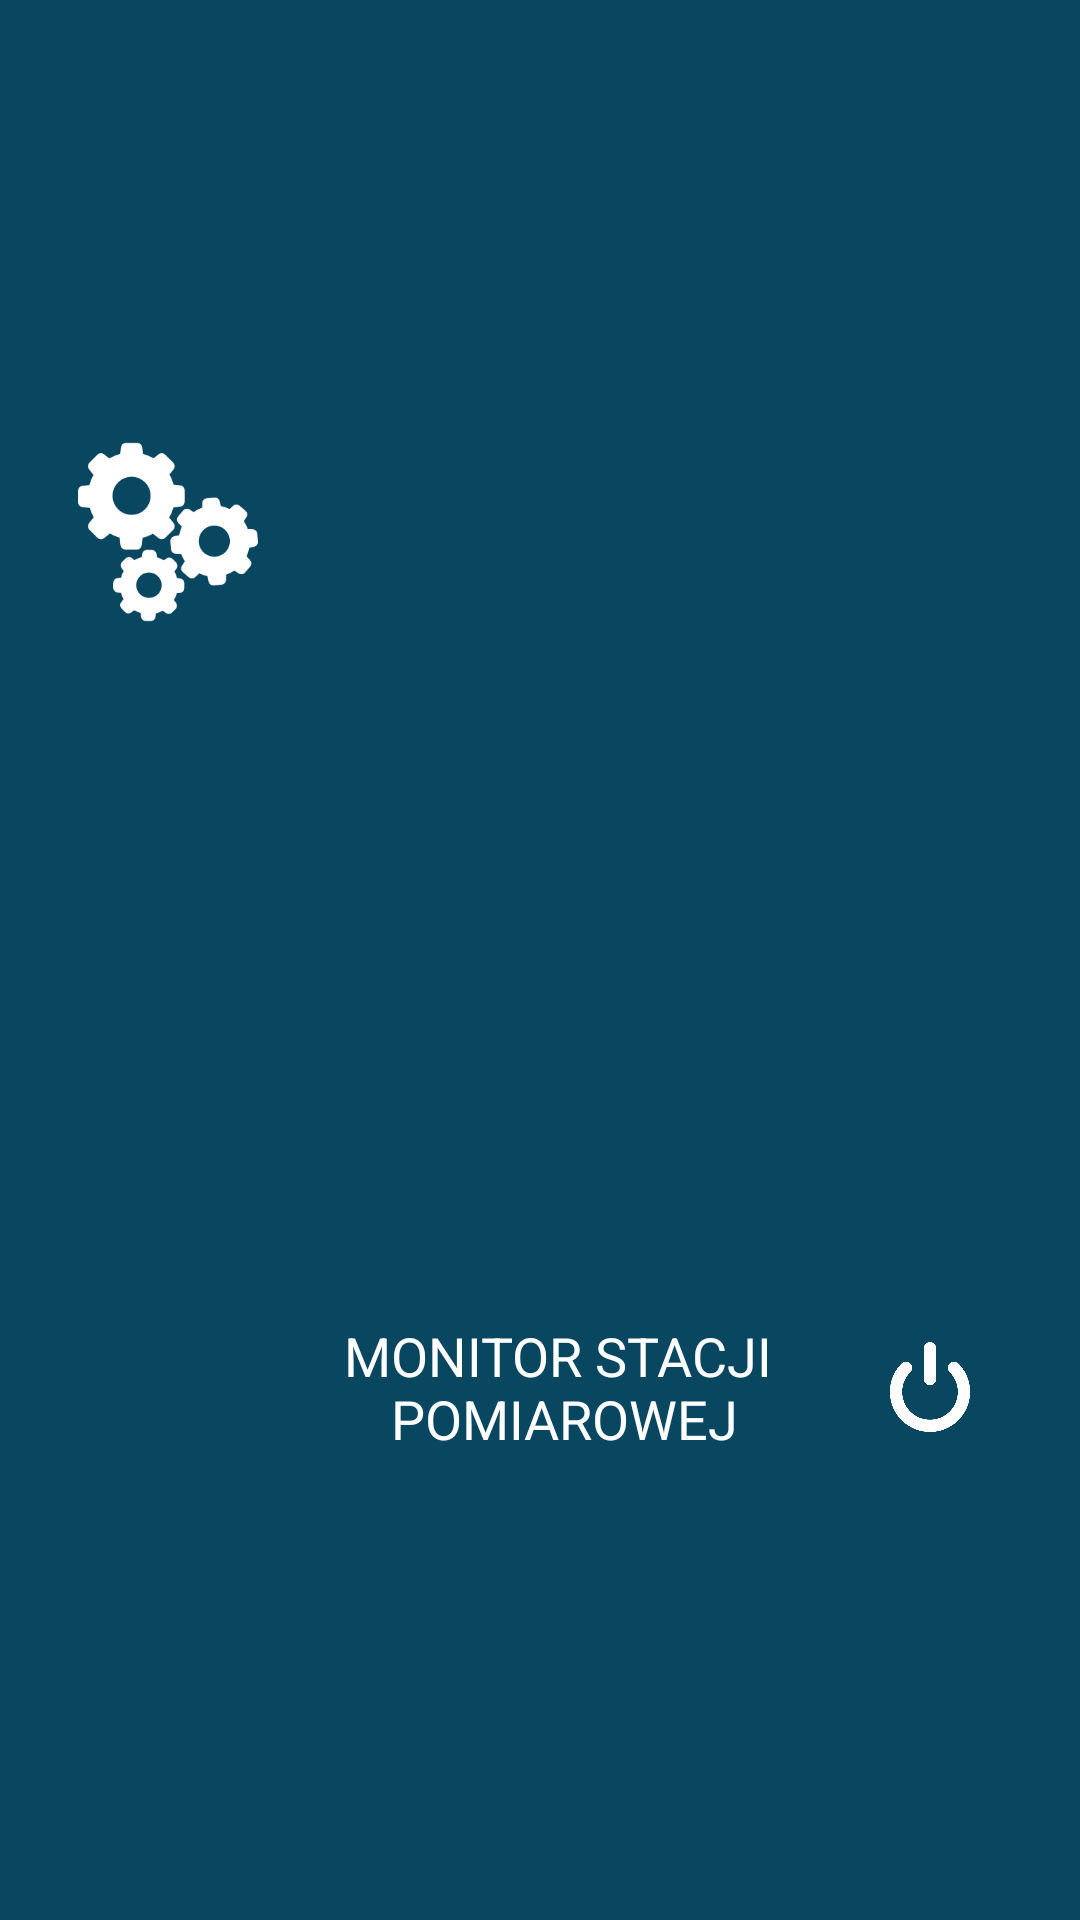

Locate icon controls on the screen. Image size 1080px×1920px, boxes as box(x1, y1, x2, y2).
power: box(890, 1342, 970, 1432)
settings gears: box(78, 442, 258, 622)
